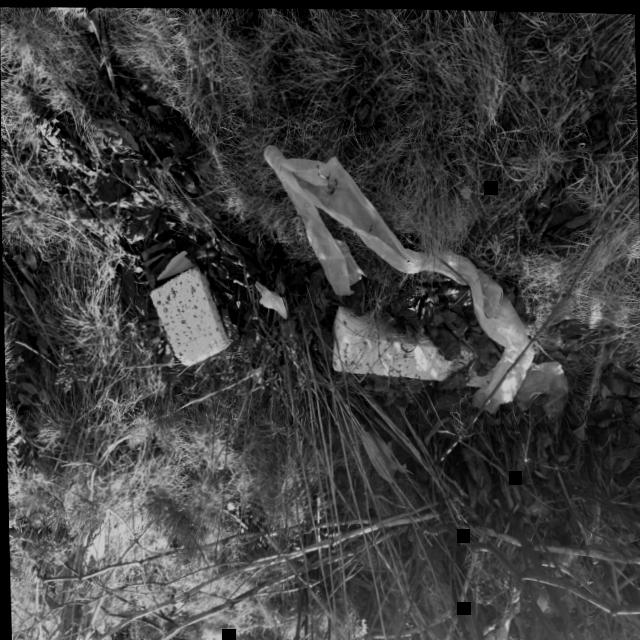Other plastic bottle: (156, 248, 196, 279)
Plastic film: (262, 143, 532, 410), (513, 358, 567, 429), (359, 424, 411, 480), (253, 278, 285, 317), (493, 607, 512, 640), (534, 590, 546, 608)
Styrofoam piece: (329, 303, 493, 383), (148, 265, 230, 363)
